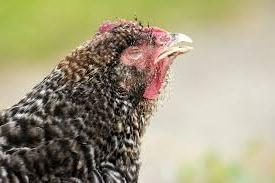AbNormal: (97, 16, 169, 41)
